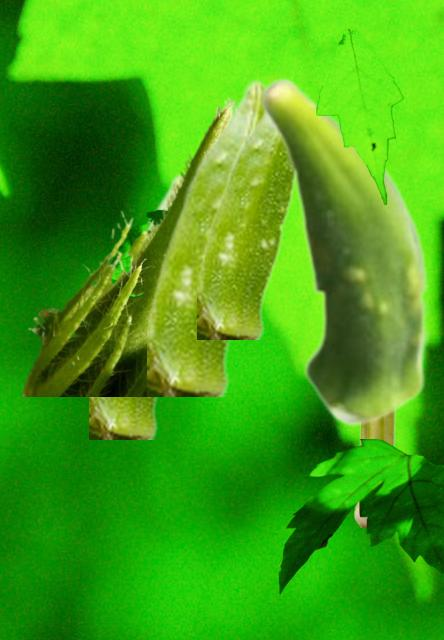okra: (18, 96, 235, 395), (258, 76, 430, 426), (147, 77, 265, 395), (89, 172, 180, 438), (197, 110, 295, 338), (354, 414, 394, 526)
